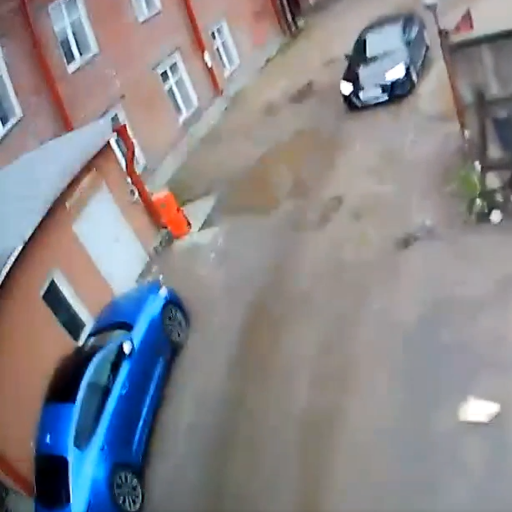Car: (31, 282, 183, 509), (339, 9, 430, 108)
